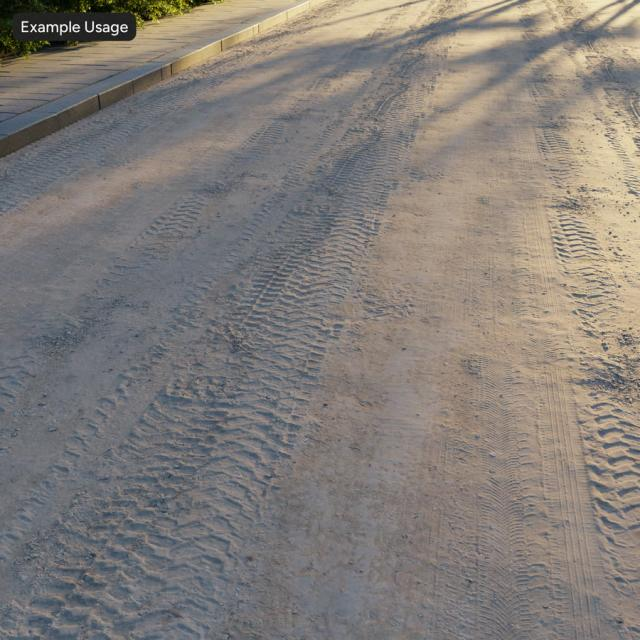suelo_compacto: (134, 108, 549, 583)
